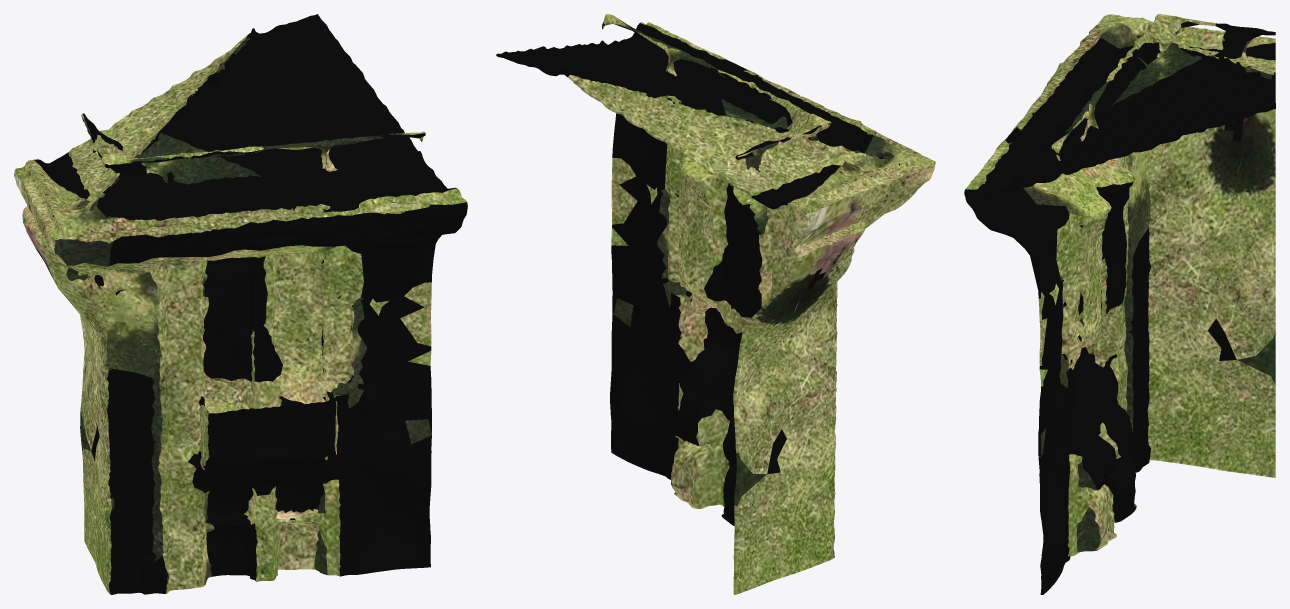
The picture shows the model from 3 angles, left to right: view 1: azimuth 30°, elevation 25°; view 2: azimuth 150°, elevation 25°; view 3: azimuth 270°, elevation 25°; orthographic projection. The views are drawn at different scales.
Parts seen in each view (by area): view 1: node_154; view 2: node_154; view 3: node_154.
Boxes of the visible parts, x1,y1,x2,y2 form: node_154: (14,14,467,594); node_154: (496,14,935,594); node_154: (964,14,1275,594).
Size of the model in its own units: 6.27 by 8.17 by 4.71.
1 material, 1 textured.
